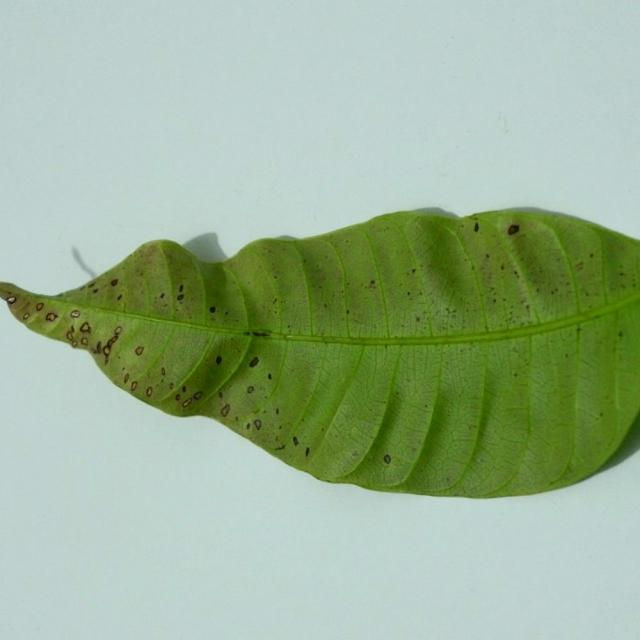Anthracnose: (59, 309, 126, 375), (490, 246, 543, 318), (393, 276, 438, 324), (236, 403, 281, 443), (182, 392, 202, 408), (442, 306, 458, 319), (507, 224, 520, 235), (350, 316, 365, 325), (80, 322, 91, 333), (65, 331, 75, 343), (221, 404, 230, 417), (251, 331, 270, 337), (6, 295, 17, 305), (249, 357, 259, 367), (193, 391, 203, 401), (365, 281, 376, 290), (35, 302, 44, 311), (70, 310, 80, 318), (47, 314, 58, 321), (576, 261, 584, 270), (384, 455, 392, 464), (80, 337, 88, 346), (575, 326, 582, 336), (473, 222, 479, 233), (54, 292, 65, 298), (215, 356, 222, 365), (87, 282, 96, 289), (176, 294, 184, 301), (71, 340, 78, 348), (247, 386, 254, 394), (110, 279, 118, 286), (115, 326, 122, 334), (243, 331, 254, 336), (178, 284, 184, 293), (209, 306, 216, 313), (445, 476, 452, 483), (351, 451, 359, 457), (273, 273, 279, 281), (471, 216, 479, 222), (305, 447, 310, 456), (161, 367, 166, 376), (218, 391, 224, 398), (159, 292, 165, 299), (117, 294, 123, 301), (24, 313, 31, 319), (175, 394, 181, 401), (246, 422, 251, 430), (182, 385, 187, 393), (369, 279, 375, 285), (92, 288, 99, 293), (267, 373, 272, 380), (169, 383, 174, 390), (619, 272, 625, 277), (273, 298, 278, 304), (618, 331, 623, 337), (411, 268, 416, 274), (275, 408, 279, 415), (485, 254, 490, 259), (323, 303, 328, 308), (589, 253, 594, 258), (599, 412, 604, 417), (500, 264, 504, 270), (407, 291, 411, 296), (492, 298, 496, 303), (346, 309, 350, 314), (287, 324, 291, 329)
Mango: (0, 208, 639, 502)
